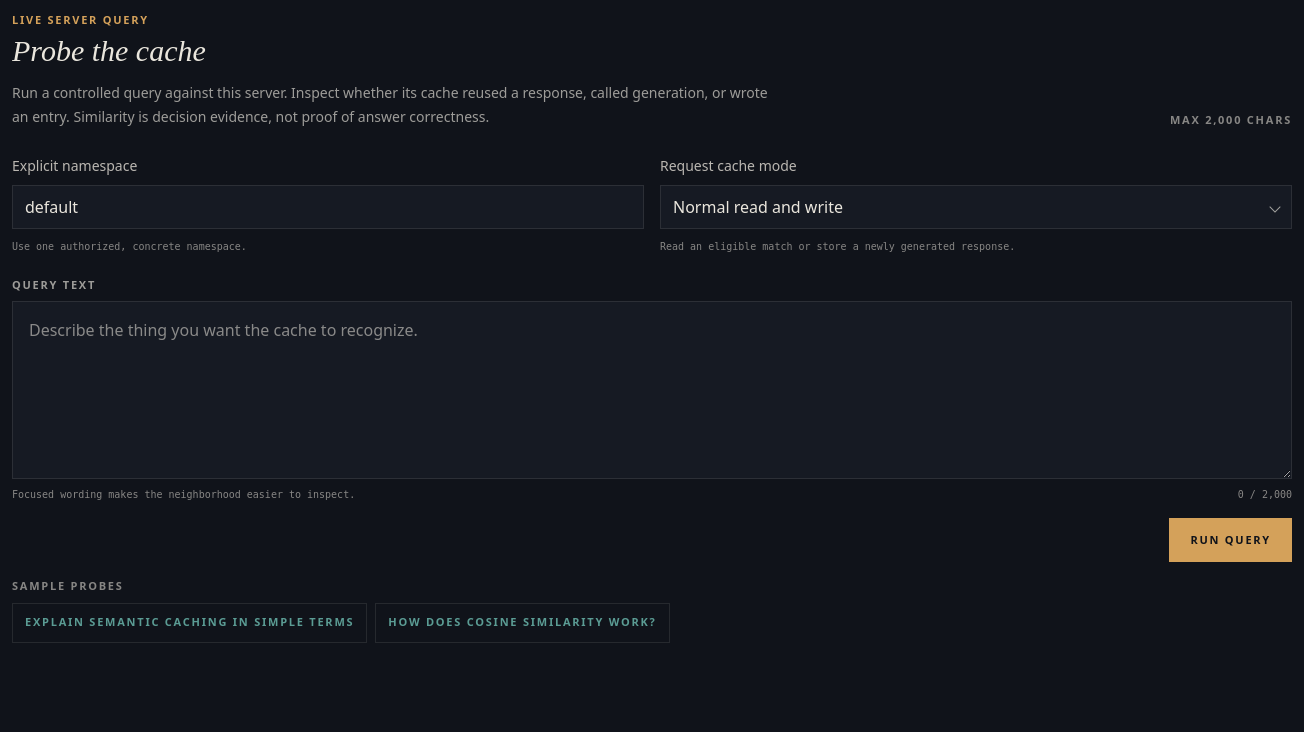
Scenario: QueryForm › moves listbox focus separately from selection and cancels with Escape
The image size is (1304, 732).
Click the button named "Request cache mode".
click(758, 206)  # box [660,184,1292,228]
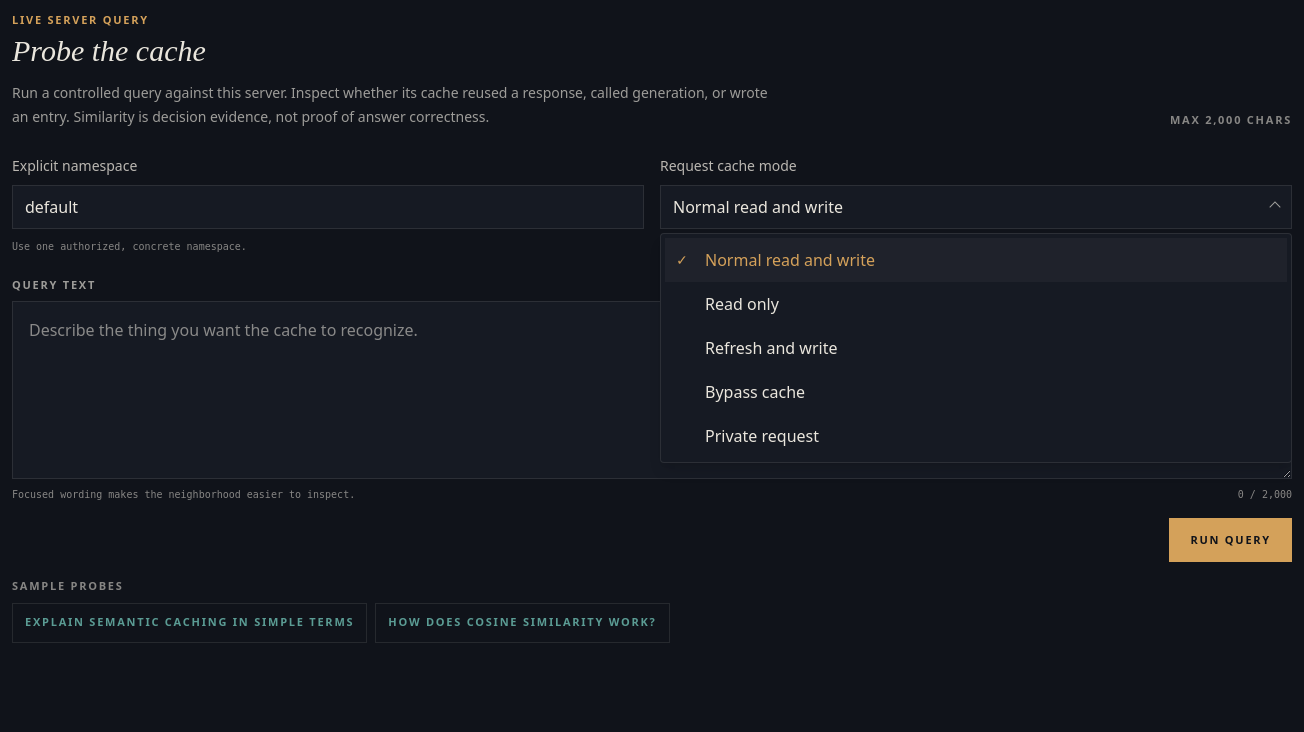
Press ArrowDown in the list, box [660,232,1292,462]
Expected: the button named "Request cache mode" reads "Normal read and write", [660,184,1292,228]
Press End in the list, box [660,232,1292,462]
Press ArrowUp in the list, box [660,232,1292,462]
Press Home in the list, box [660,232,1292,462]
Press Escape in the list, box [660,232,1292,462]
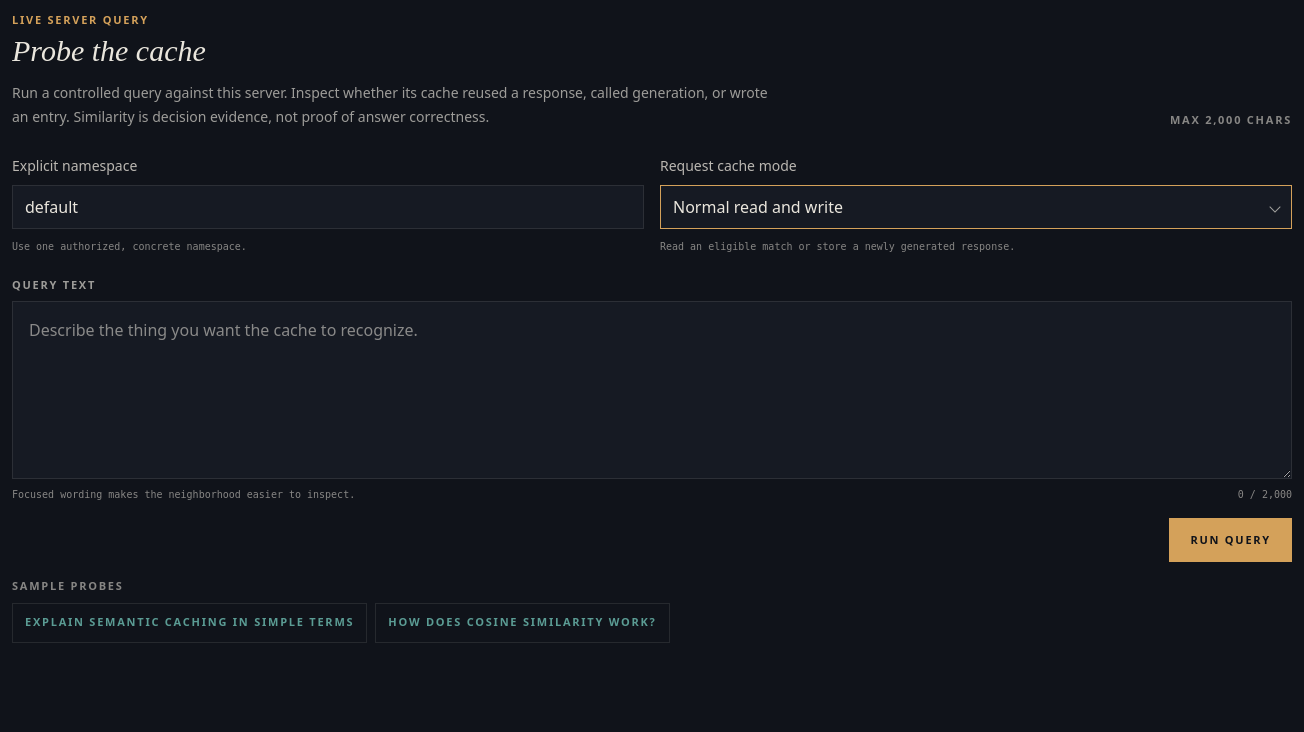
Expected: the button named "Request cache mode" reads "Normal read and write", [660,184,1292,228]
Now the list is gone
